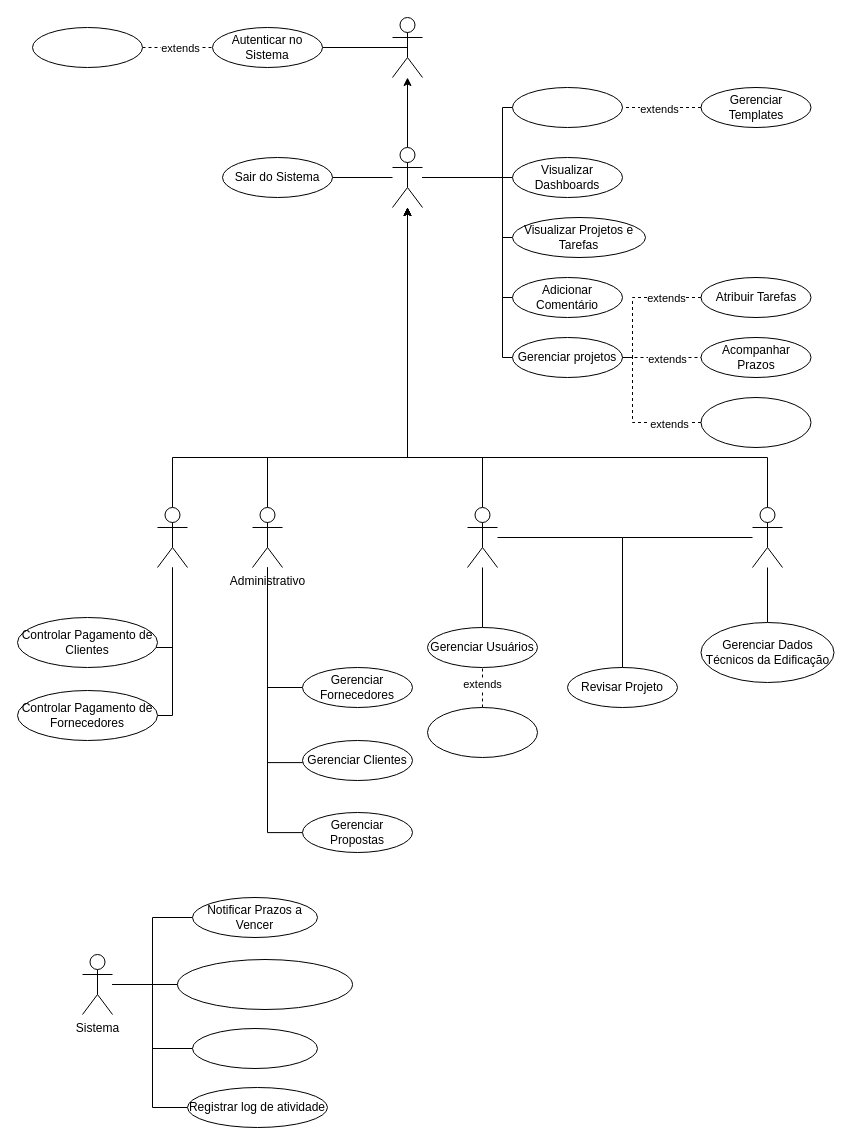
Image size: 852x1145. Some labels were removed from this diagram. The shapes that lost their labels are listed below. From the top down, each one's centre as x and y in pixels, then its label:
At pixel 87 47: "Recuperar Senha".
At pixel 407 47: "Usuário não logado".
At pixel 567 107: "Gerenciar Documentos".
At pixel 407 177: "Usuário logado".
At pixel 755 422: "Atualizar Status do Processo".
At pixel 172 537: "Financeiro".
At pixel 482 537: "Gerencial".
At pixel 767 537: "Projetista".
At pixel 482 732: "Controlar Acesso por Perfil".
At pixel 264 984: "Notificar Conclusão de Etapa do Processo”".
At pixel 255 1048: "Enviar E-mail ao Cliente".
